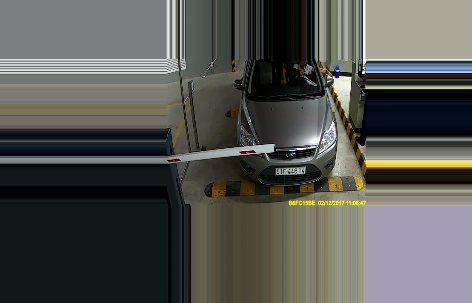plate: (271, 162, 308, 177)
